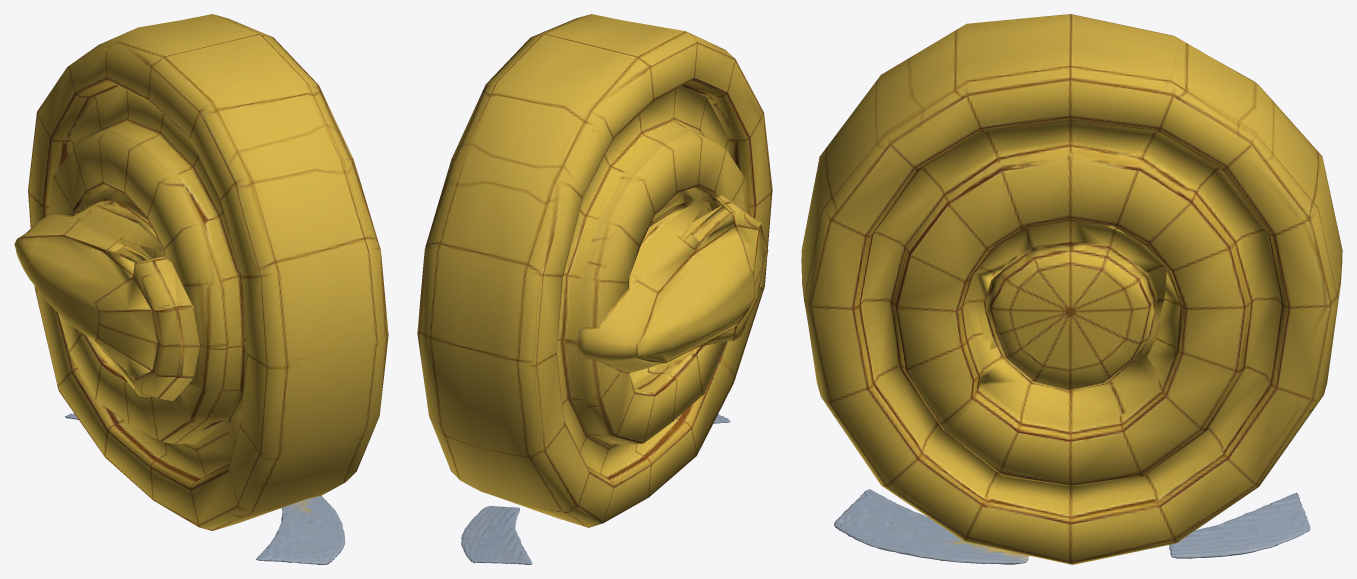
3 views of the same model, side by side, from view 1: azimuth 30°, elevation 25°; view 2: azimuth 150°, elevation 25°; view 3: azimuth 270°, elevation 25° (orthographic). The views are drawn at different scales.
Visible parts, largest first — view 1: tripo_node_b6232e43-3126-45b1-99b9-315380bd1345; view 2: tripo_node_b6232e43-3126-45b1-99b9-315380bd1345; view 3: tripo_node_b6232e43-3126-45b1-99b9-315380bd1345.
Boxes of the visible parts, x1,y1,x2,y2 form: tripo_node_b6232e43-3126-45b1-99b9-315380bd1345: (14, 14, 388, 564); tripo_node_b6232e43-3126-45b1-99b9-315380bd1345: (417, 14, 772, 564); tripo_node_b6232e43-3126-45b1-99b9-315380bd1345: (801, 14, 1342, 564).
Size of the model in its own units: 0.2613 by 0.5 by 0.5002.
Materials: 1 (1 with a texture image).
